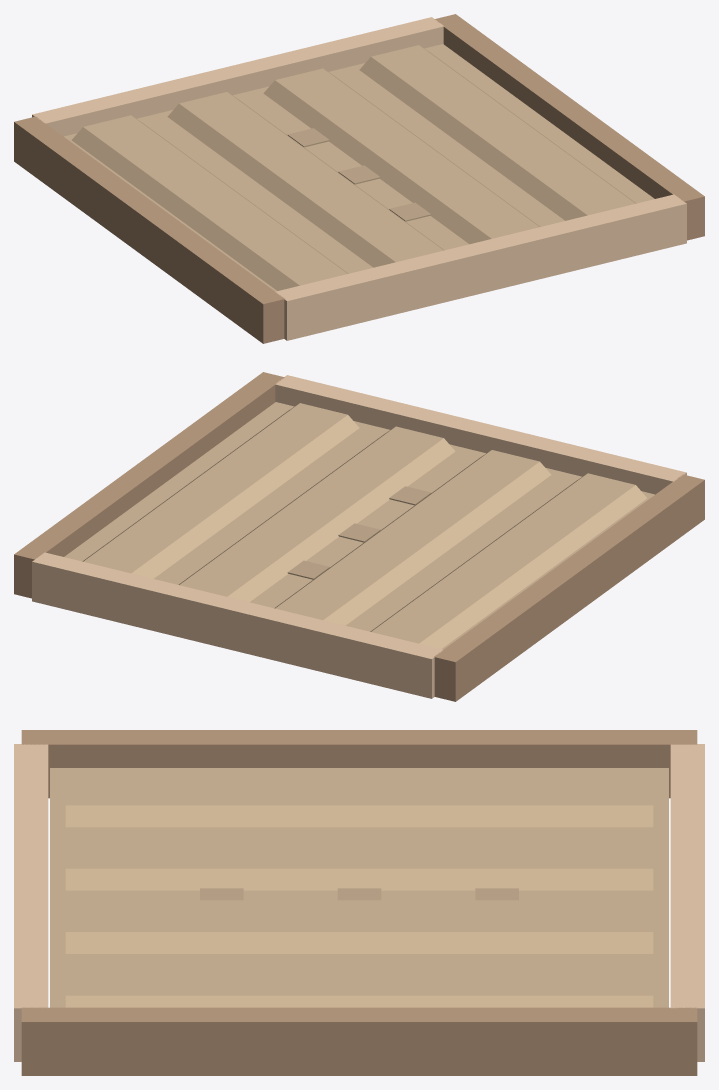
The model's file is crafted-garden-bed-dry-planted.glb.
3 views of the same model, one above another, from view 1: azimuth 30°, elevation 25°; view 2: azimuth 150°, elevation 25°; view 3: azimuth 270°, elevation 25° (orthographic). The views are drawn at different scales.
Parts seen in each view (by area): view 1: end-border-1, soil-base, side-border, furrow-ridge-3, furrow-ridge, furrow-ridge-1, furrow-ridge-2, end-border, side-border-1; view 2: end-border, soil-base, side-border, furrow-ridge-3, furrow-ridge, furrow-ridge-1, furrow-ridge-2, end-border-1, side-border-1; view 3: side-border-1, furrow-ridge, furrow-ridge-2, furrow-ridge-1, soil-base, furrow-ridge-3, side-border, end-border, end-border-1, seed-dimple-1, seed-dimple, seed-dimple-2.
Boxes of the visible parts, x1,y1,x2,y2 form: end-border-1: (275, 194, 686, 340); soil-base: (64, 44, 654, 291); side-border: (14, 116, 284, 343); furrow-ridge-3: (359, 45, 636, 220); furrow-ridge: (71, 115, 348, 290); furrow-ridge-1: (167, 92, 444, 267); furrow-ridge-2: (263, 68, 540, 244); end-border: (32, 17, 443, 136); side-border-1: (434, 14, 704, 240); end-border: (32, 552, 442, 698); soil-base: (64, 402, 654, 649); side-border: (434, 474, 704, 701); furrow-ridge-3: (82, 403, 359, 578); furrow-ridge: (370, 473, 647, 648); furrow-ridge-1: (274, 450, 551, 625); furrow-ridge-2: (178, 426, 455, 602); end-border-1: (275, 375, 686, 494); side-border-1: (14, 372, 284, 598); side-border-1: (21, 1007, 697, 1075); furrow-ridge: (65, 773, 653, 827); furrow-ridge-2: (65, 900, 653, 953); furrow-ridge-1: (65, 837, 653, 890); soil-base: (50, 768, 668, 1007); furrow-ridge-3: (65, 964, 653, 1007); side-border: (21, 730, 697, 798); end-border: (670, 744, 704, 1061); end-border-1: (14, 744, 48, 1061); seed-dimple-1: (337, 888, 381, 900); seed-dimple: (475, 888, 518, 900); seed-dimple-2: (200, 888, 243, 900).
Bounding box in the file's own units: 1.11 × 0.095 × 1.11.
